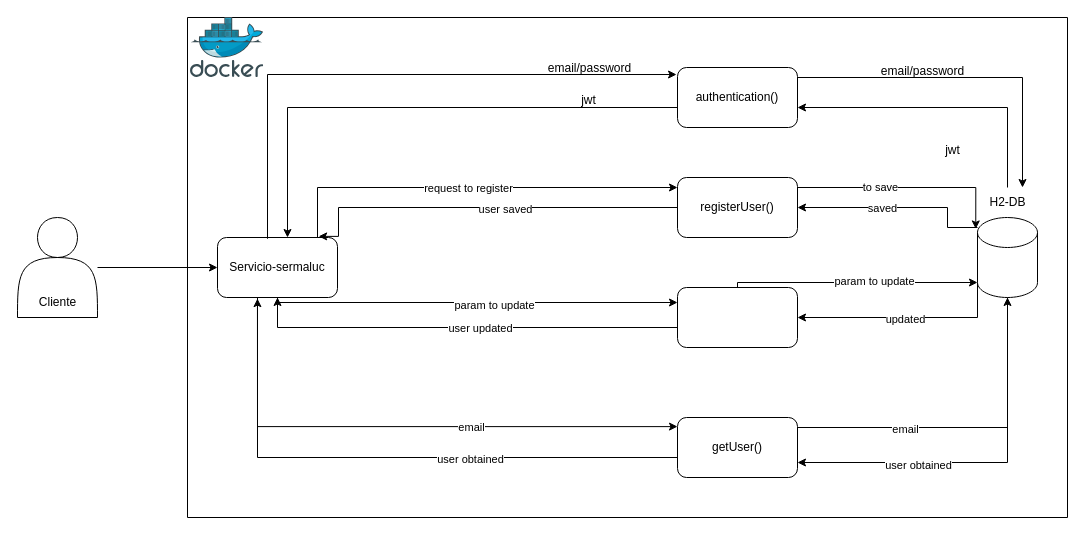
Image size: 1085x535. Some labels were removed from this diagram. Each missing label, with the box of its shape:
testdb: (976, 216, 1038, 298)
updateState(): (676, 286, 798, 348)
